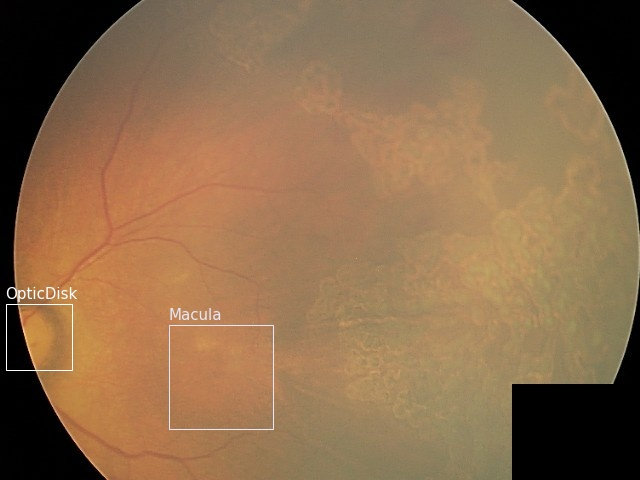Macula: (168, 324, 272, 428)
OpticDisk: (5, 303, 71, 369)
